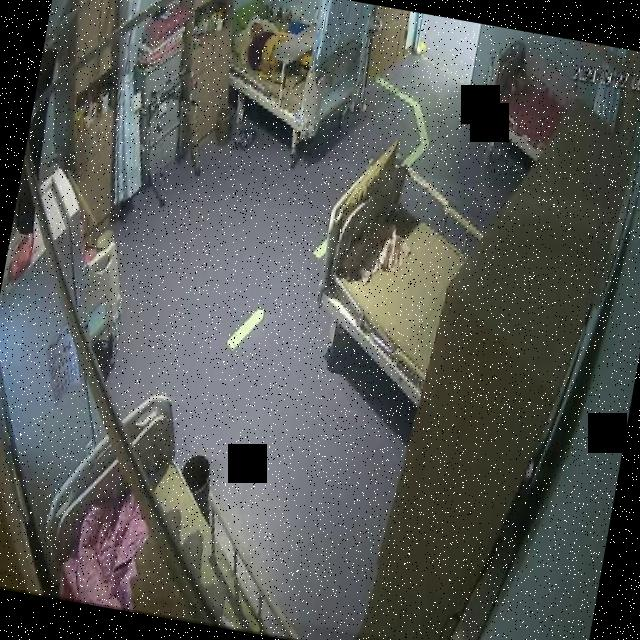bed: (32, 376, 310, 636), (304, 150, 486, 400), (222, 2, 371, 141), (476, 36, 577, 164)
lie: (239, 13, 319, 84)
patient: (240, 12, 290, 78)
walker: (124, 63, 218, 214)
